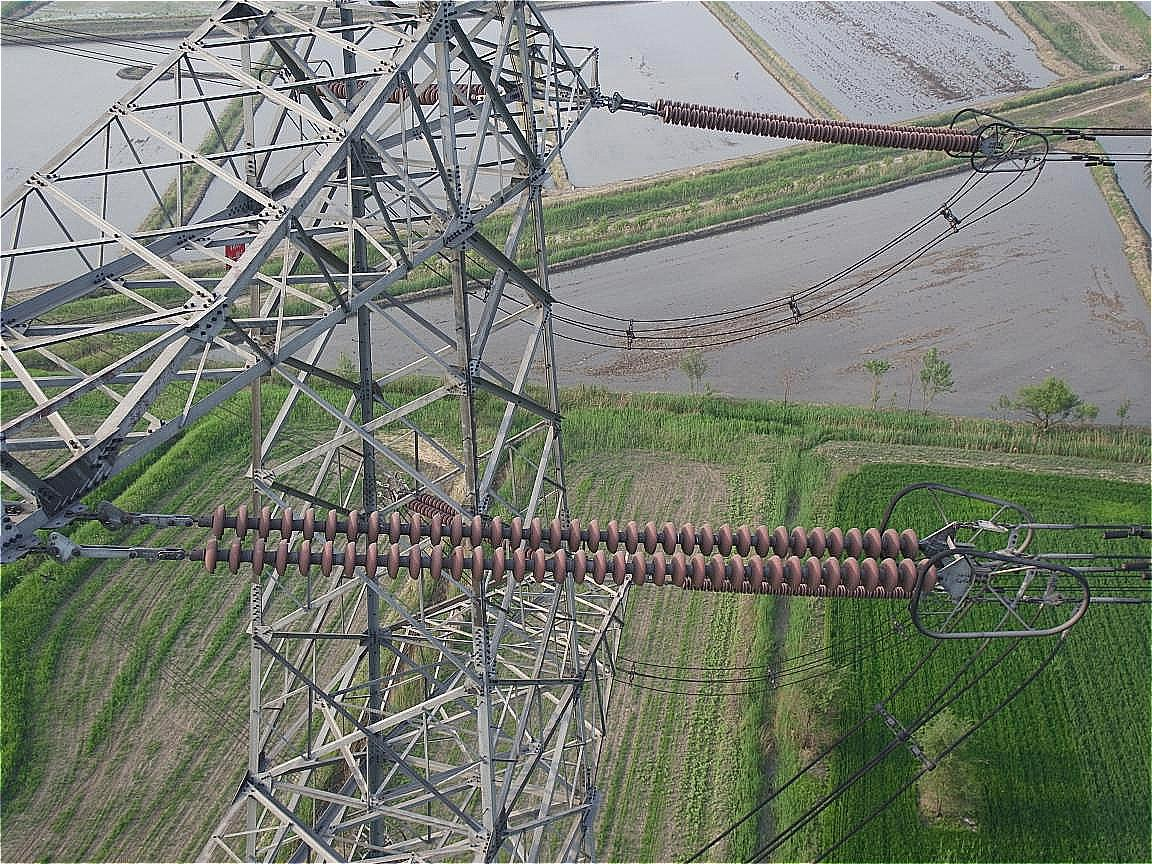insultor1: (205, 501, 940, 592)
insultor2: (654, 96, 986, 156)
